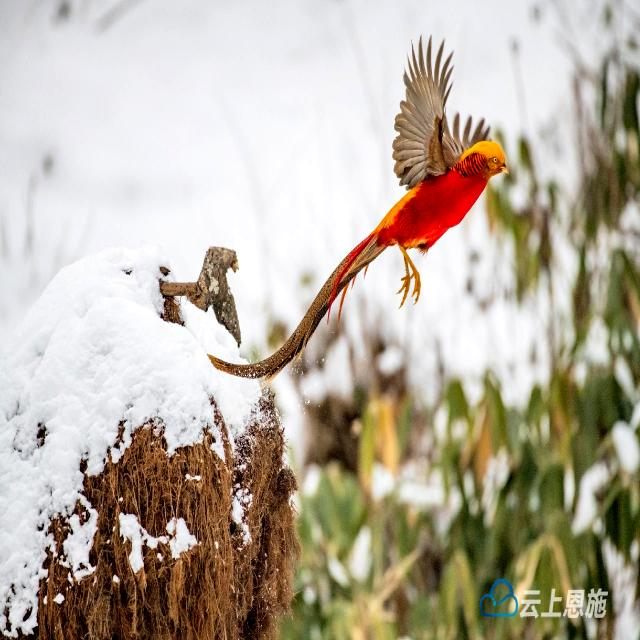Chrysolophus pictus feather: (208, 235, 386, 380)
